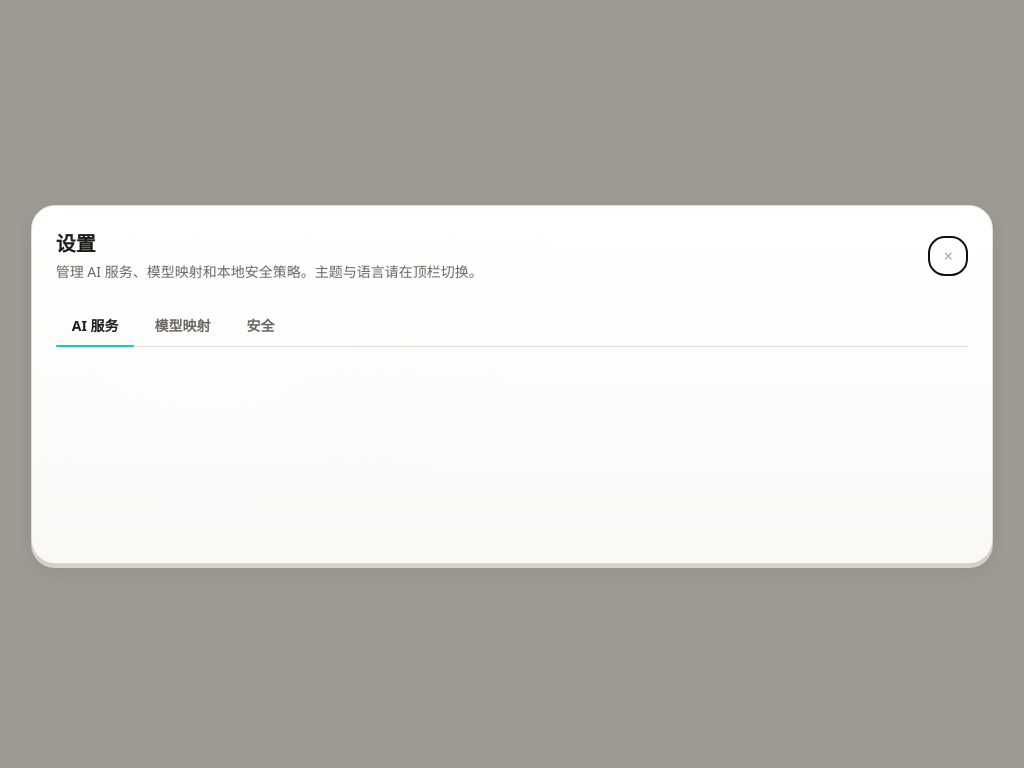
Test: SettingsPanel provider configuration UI › shows one mapping center for text capabilities and media product routes
Click the button "模型映射" at (182, 326), box [138, 306, 226, 346]
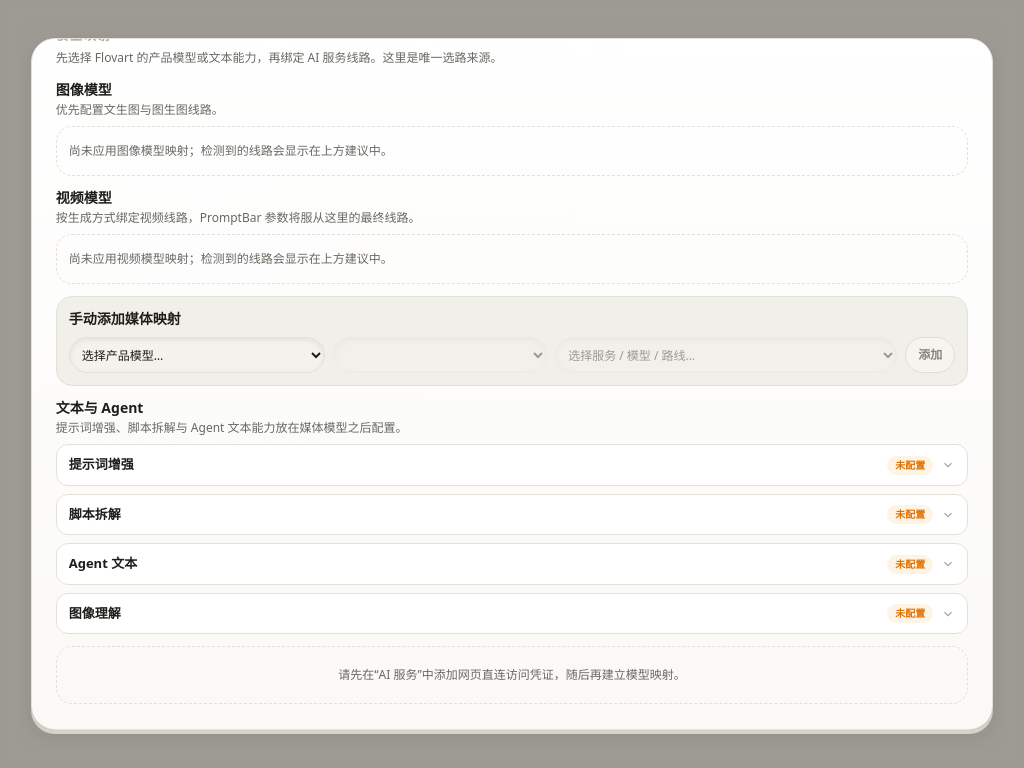
Result: the text "提示词增强" is shown at [69, 455, 134, 473]
Result: the text "脚本拆解" is shown at [69, 505, 121, 523]
Result: the text "Agent 文本" is shown at [69, 554, 137, 572]
